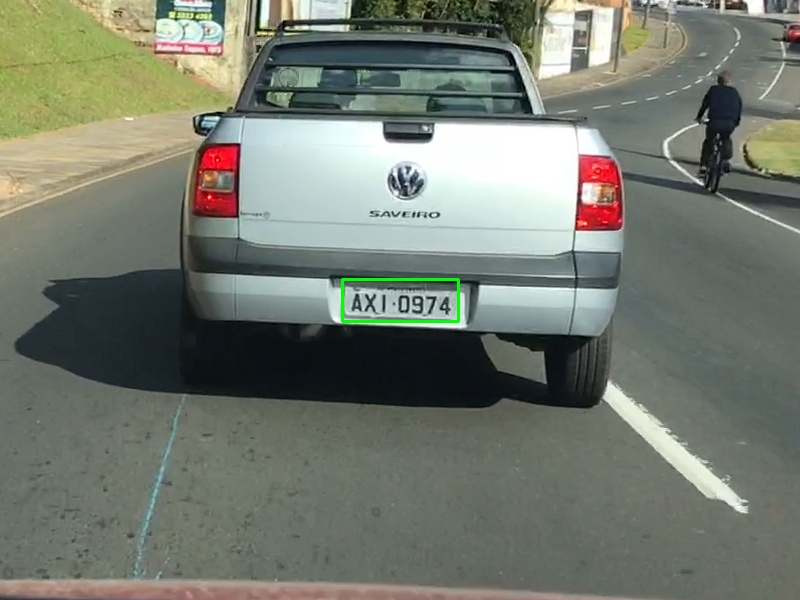placa: (342, 279, 458, 321)
